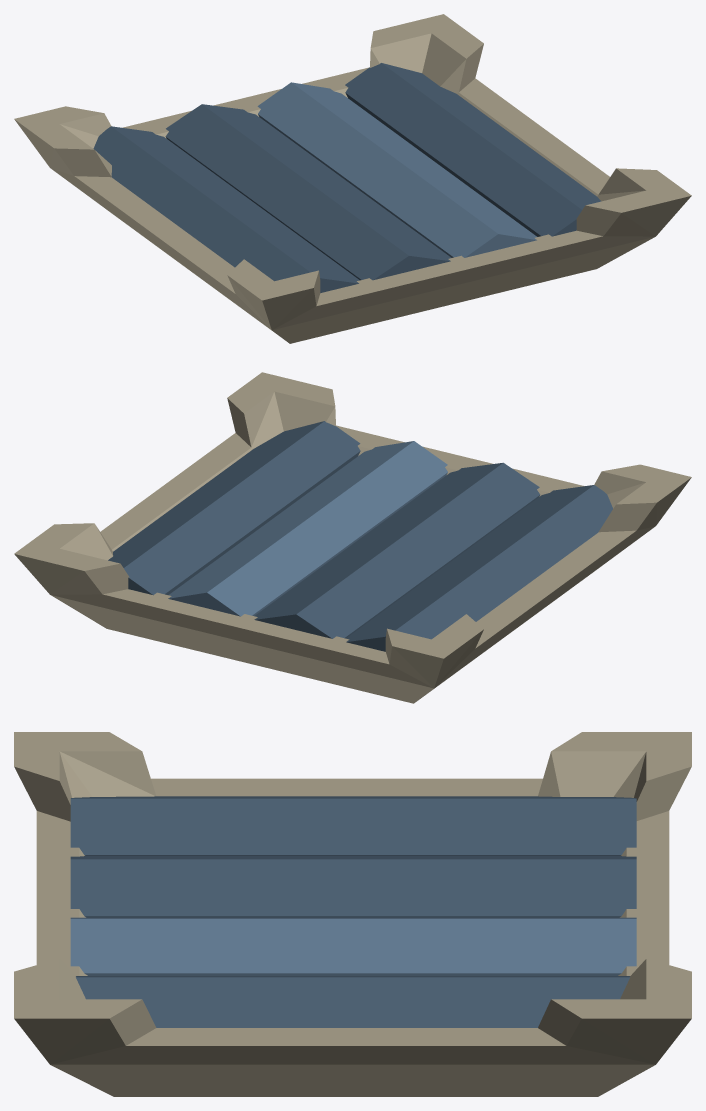
The model's file is _ROOF_UP_QUAD_1.fbx.
The picture shows the model from 3 angles, top to bottom: view 1: azimuth 30°, elevation 25°; view 2: azimuth 150°, elevation 25°; view 3: azimuth 270°, elevation 25°; orthographic projection. The views are drawn at different scales.
Parts seen in each view (by area): view 1: ROOF_UP_QUAD_1; view 2: ROOF_UP_QUAD_1; view 3: ROOF_UP_QUAD_1.
Boxes of the visible parts, left/top/right/bottom form: ROOF_UP_QUAD_1: left=14, top=14, right=691, bottom=343; ROOF_UP_QUAD_1: left=14, top=372, right=691, bottom=703; ROOF_UP_QUAD_1: left=14, top=732, right=691, bottom=1096.
Size of the model in its own units: 140 by 26.72 by 140.
